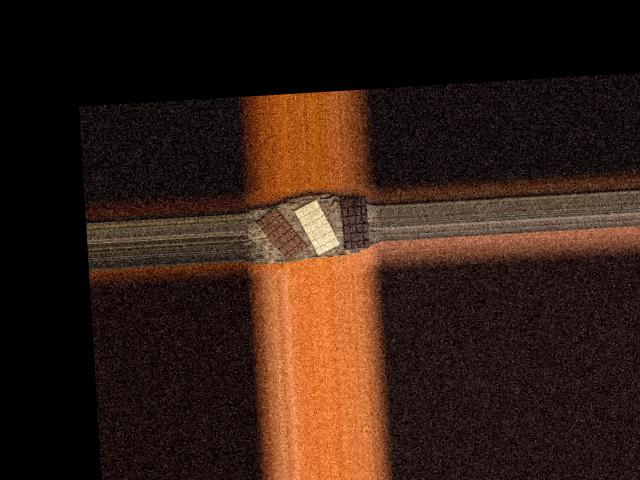chocolate: (340, 195, 370, 249)
